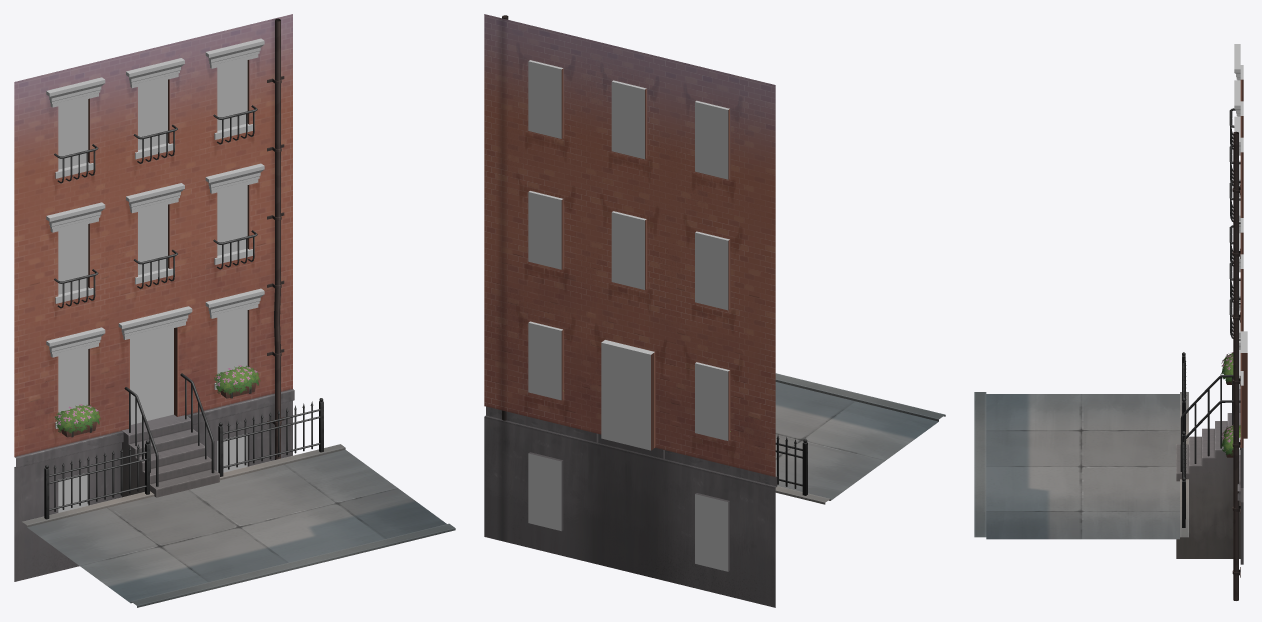
The picture shows the model from 3 angles, left to right: view 1: azimuth 30°, elevation 25°; view 2: azimuth 150°, elevation 25°; view 3: azimuth 270°, elevation 25°; orthographic projection. The views are drawn at different scales.
Parts seen in each view (by area): view 1: building, road, door_window, stair, pCylinder5, plant (×2), pCube24, pCube89, pCube84, pCube86, pCube87, pCube83 (+3 smaller); view 2: building, door_window, road; view 3: road, stair, pCylinder5, building.
Part boxes in pixels (box(x1,y1,x2,y2)): building: box(14, 14, 294, 581); road: box(22, 444, 455, 607); door_window: box(58, 60, 247, 512); stair: box(122, 415, 219, 497); pCylinder5: box(274, 18, 280, 459); plant (×2): box(54, 365, 260, 433); pCube24: box(118, 306, 192, 339); pCube89: box(205, 38, 264, 68); pCube84: box(205, 163, 264, 193); pCube86: box(46, 202, 105, 232); pCube87: box(46, 77, 105, 107); pCube83: box(205, 288, 264, 318); building: box(484, 14, 777, 607); door_window: box(528, 61, 728, 571); road: box(775, 373, 945, 504); road: box(974, 392, 1188, 539); stair: box(1176, 413, 1240, 558); pCylinder5: box(1233, 131, 1238, 600); building: box(1237, 79, 1247, 564).
Size of the model in its own units: 800 by 1200 by 636.
